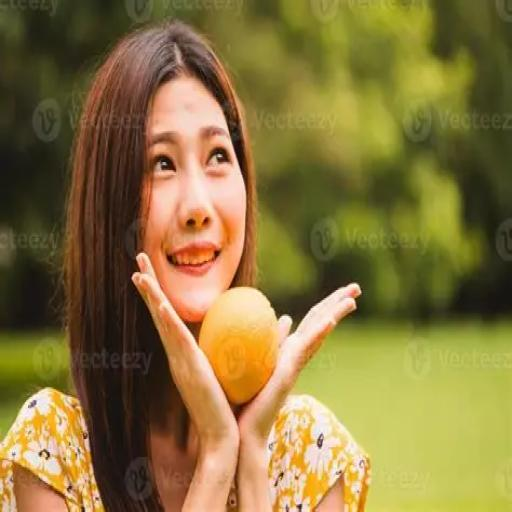orange: (199, 287, 278, 405)
